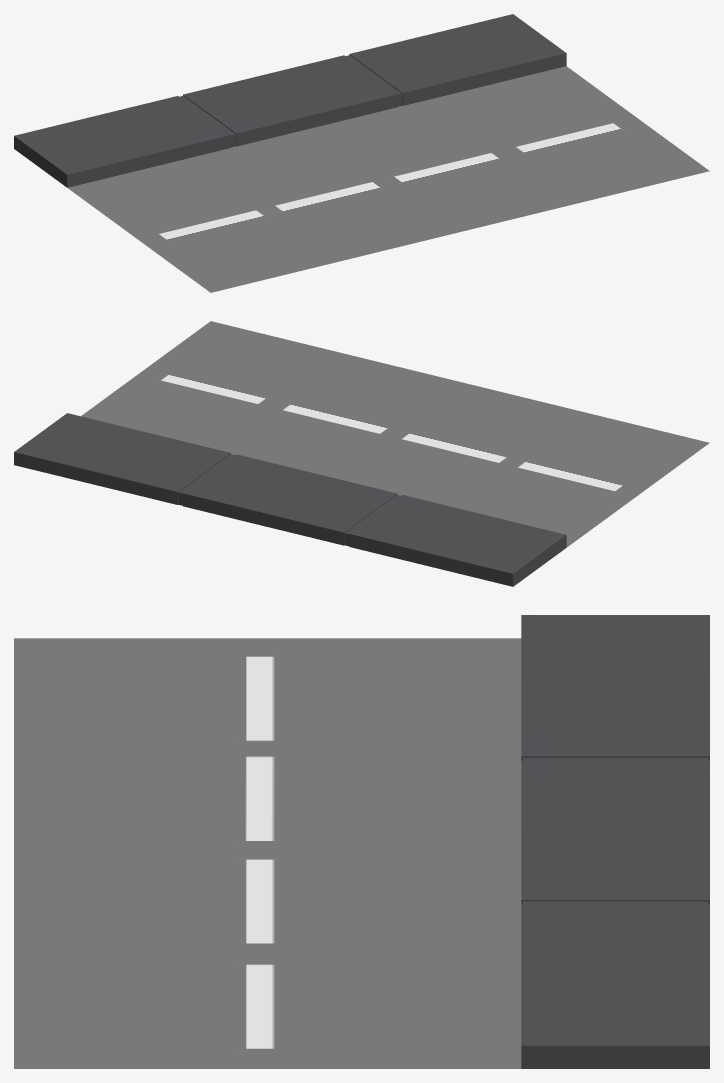
The model's file is YOL_DUZ.fbx.
3 views of the same model, one above another, from view 1: azimuth 30°, elevation 25°; view 2: azimuth 150°, elevation 25°; view 3: azimuth 270°, elevation 25° (orthographic). The views are drawn at different scales.
Visible parts, largest first — view 1: Plane.001, Plane.002; view 2: Plane.001, Plane.002; view 3: Plane.001, Plane.002.
Boxes of the visible parts, x1,y1,x2,y2 form: Plane.001: [68, 66, 709, 292]; Plane.002: [14, 14, 566, 187]; Plane.001: [81, 321, 709, 547]; Plane.002: [14, 413, 566, 586]; Plane.001: [14, 638, 521, 1068]; Plane.002: [521, 615, 709, 1068].
Size of the model in its own units: 400 by 10 by 273.
